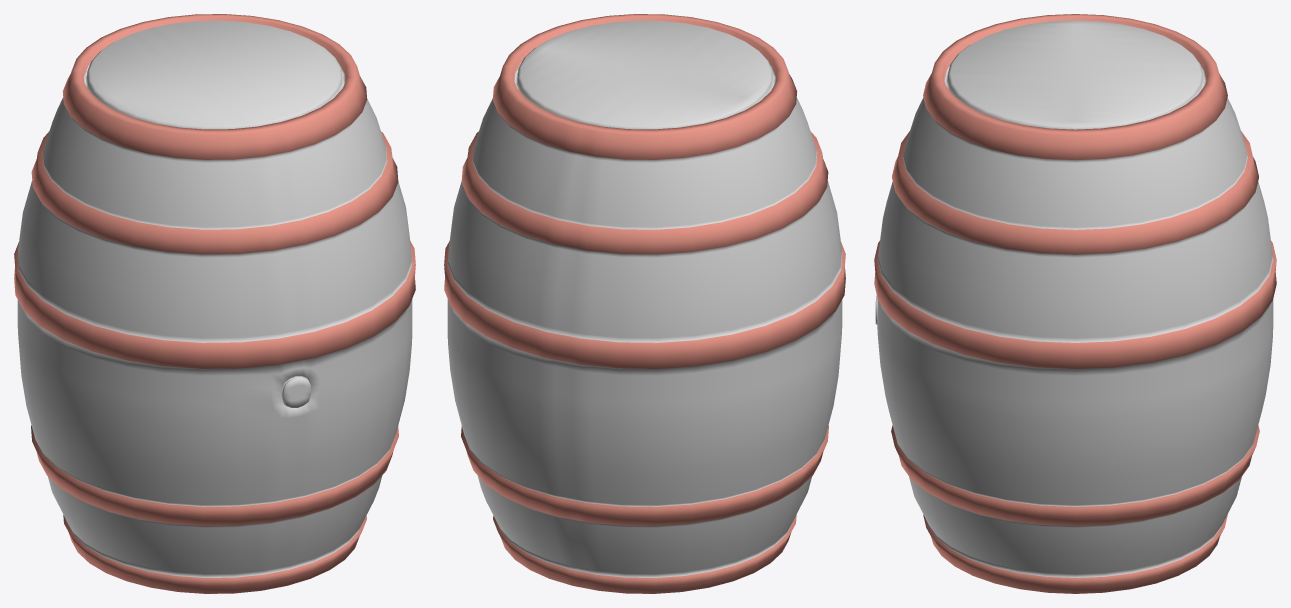
File: barrel.fbx
3 renders of one model, left to right at view 1: azimuth 30°, elevation 25°; view 2: azimuth 150°, elevation 25°; view 3: azimuth 270°, elevation 25°, orthographic.
Parts seen in each view (by area): view 1: Cylinder; view 2: Cylinder; view 3: Cylinder.
Boxes of the visible parts, left/top/right/bottom form: Cylinder: left=14, top=14, right=415, bottom=593; Cylinder: left=444, top=14, right=845, bottom=593; Cylinder: left=874, top=14, right=1276, bottom=593.
Bounding box in the file's own units: 204 × 257 × 204.
